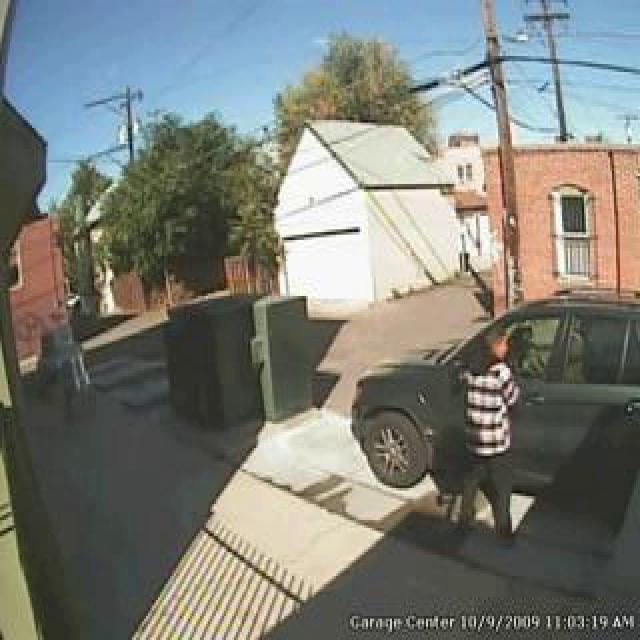stealing: (362, 319, 579, 559)
